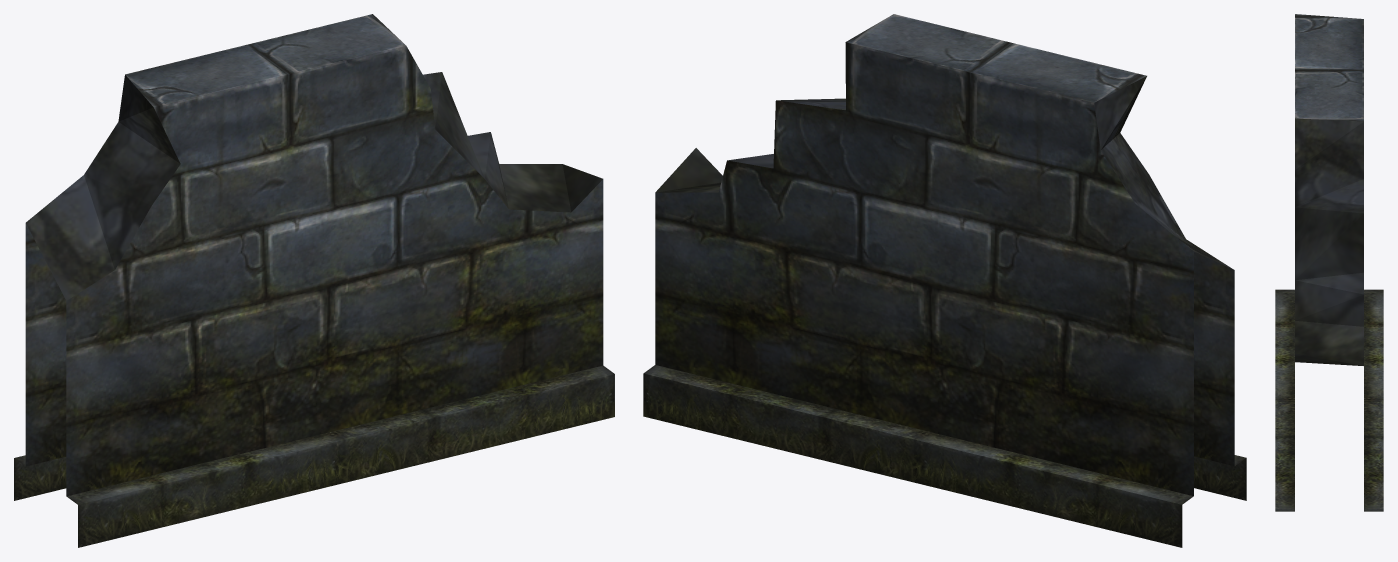
The model's file is C_qiang006.fbx.
The picture shows the model from 3 angles, left to right: view 1: azimuth 30°, elevation 25°; view 2: azimuth 150°, elevation 25°; view 3: azimuth 270°, elevation 25°; orthographic projection. The views are drawn at different scales.
Parts seen in each view (by area): view 1: C_qiang006; view 2: C_qiang006; view 3: C_qiang006.
Part boxes in pixels (x1,y1,x2,y2): C_qiang006: (14, 14, 614, 547); C_qiang006: (643, 14, 1246, 547); C_qiang006: (1275, 14, 1383, 511).
Bounding box in the file's own units: 361 × 264 × 74.74.
